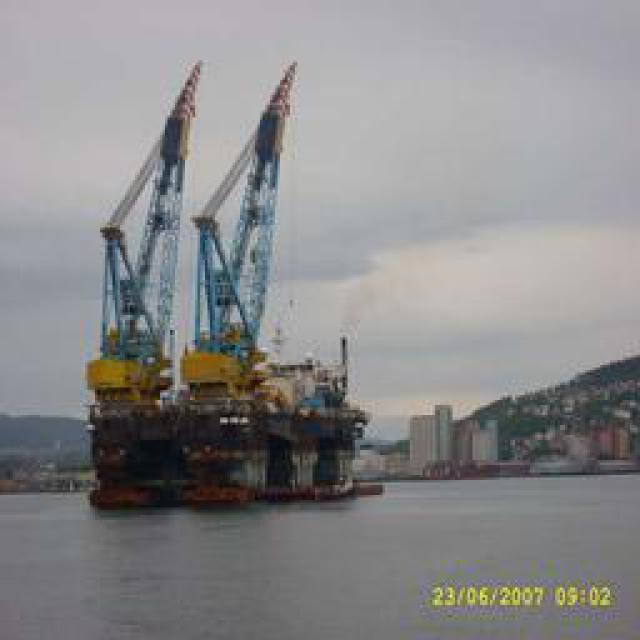Ship: (80, 41, 368, 506)
